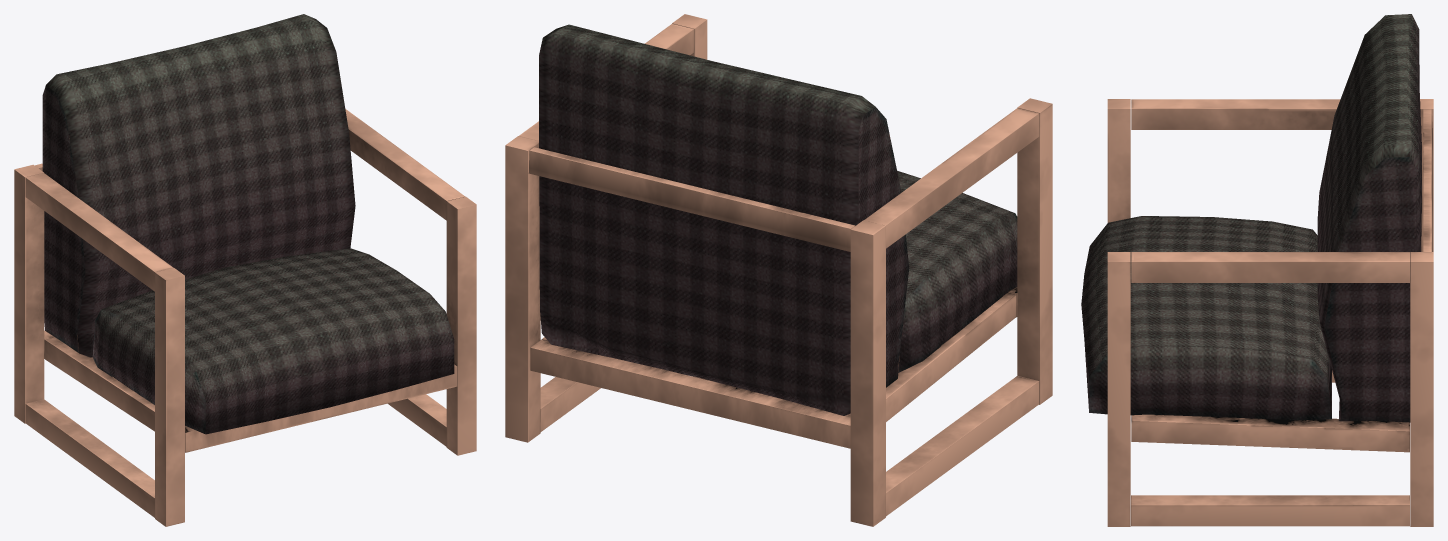
File: CouchMinimalSingle.fbx
3 renders of one model, left to right at view 1: azimuth 30°, elevation 25°; view 2: azimuth 150°, elevation 25°; view 3: azimuth 270°, elevation 25°, orthographic. The views are drawn at different scales.
Parts seen in each view (by area): view 1: Seat2; view 2: Seat2; view 3: Seat2.
Part boxes in pixels (x1,y1,x2,y2): Seat2: (14, 14, 476, 526); Seat2: (505, 14, 1052, 526); Seat2: (1081, 14, 1433, 526).
Bounding box in the file's own units: 0.6672 × 0.6996 × 0.6092.
